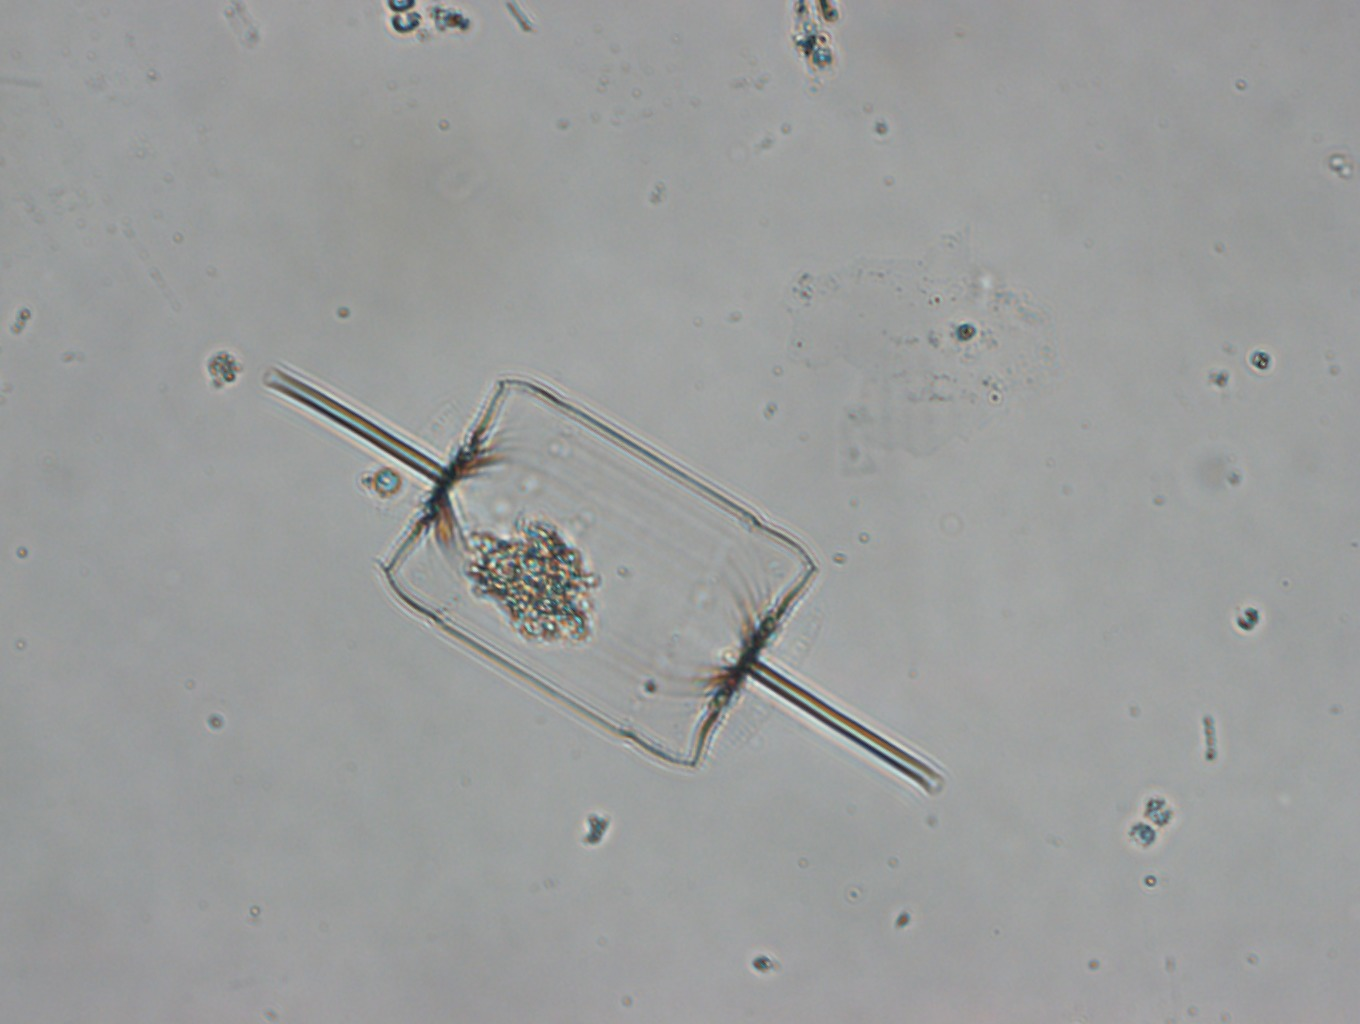ditylum: (266, 367, 949, 799)
